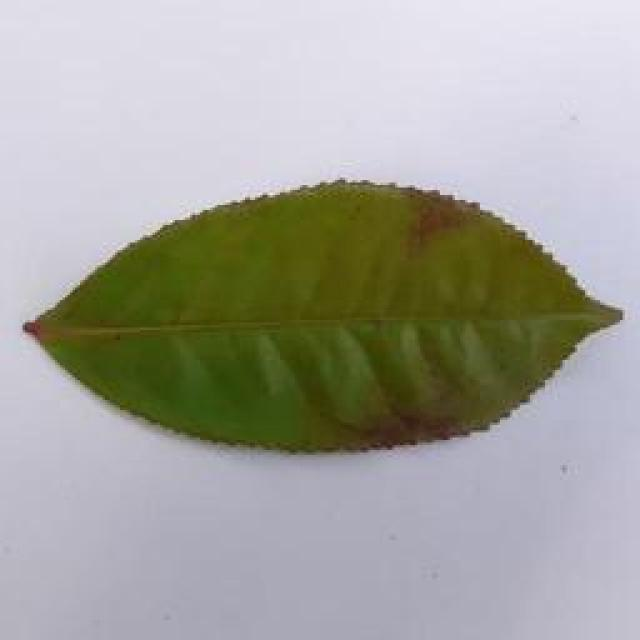Red Leaf Spot: (0, 158, 640, 487)
